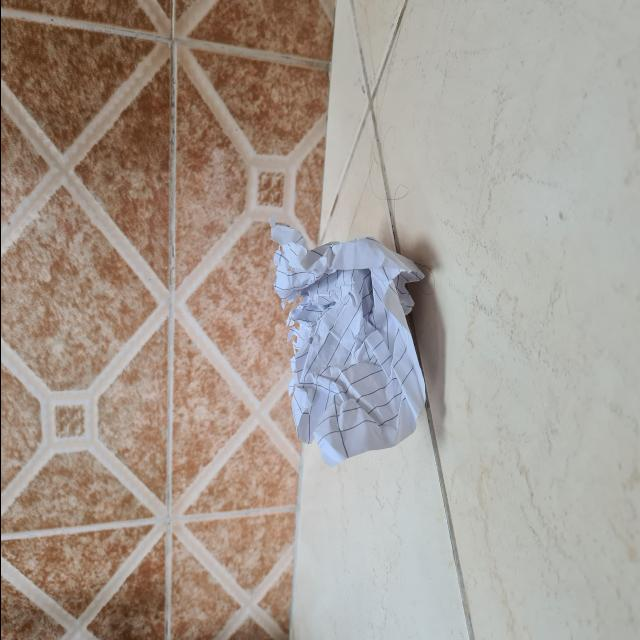kertas: (277, 215, 442, 472)
